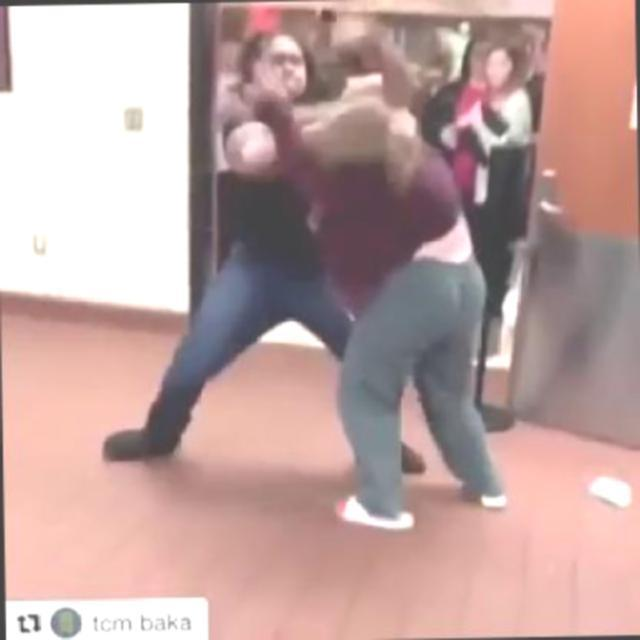fight: (202, 26, 504, 534)
